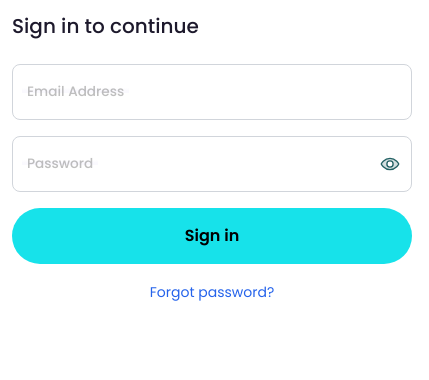
Scenario: GuestSignIn › form submission › handles API error
Type "test@example.com" into the field at (212, 92), box [12,64,412,120]
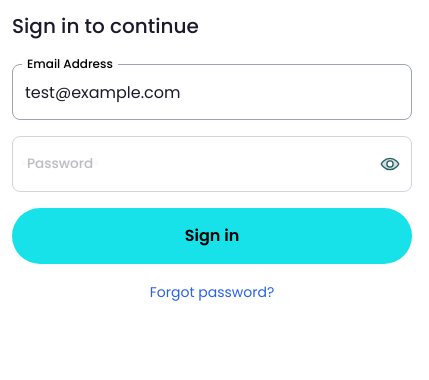
Type "password123" into the password field at (212, 164), box [12,136,412,192]
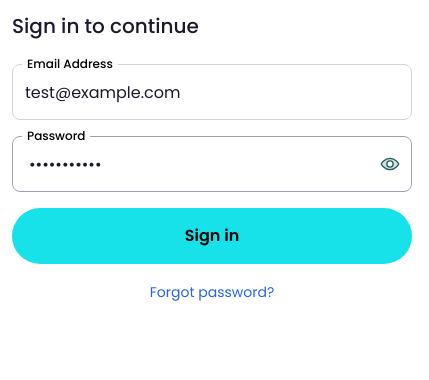
Click the button "Sign in" at (212, 236), box [12,208,412,264]
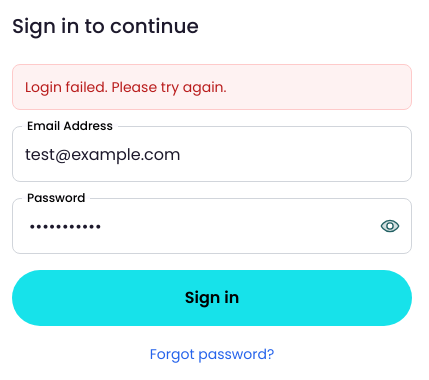
Now the text "Login failed. Please try again." is shown, box [25,77,226,97]
